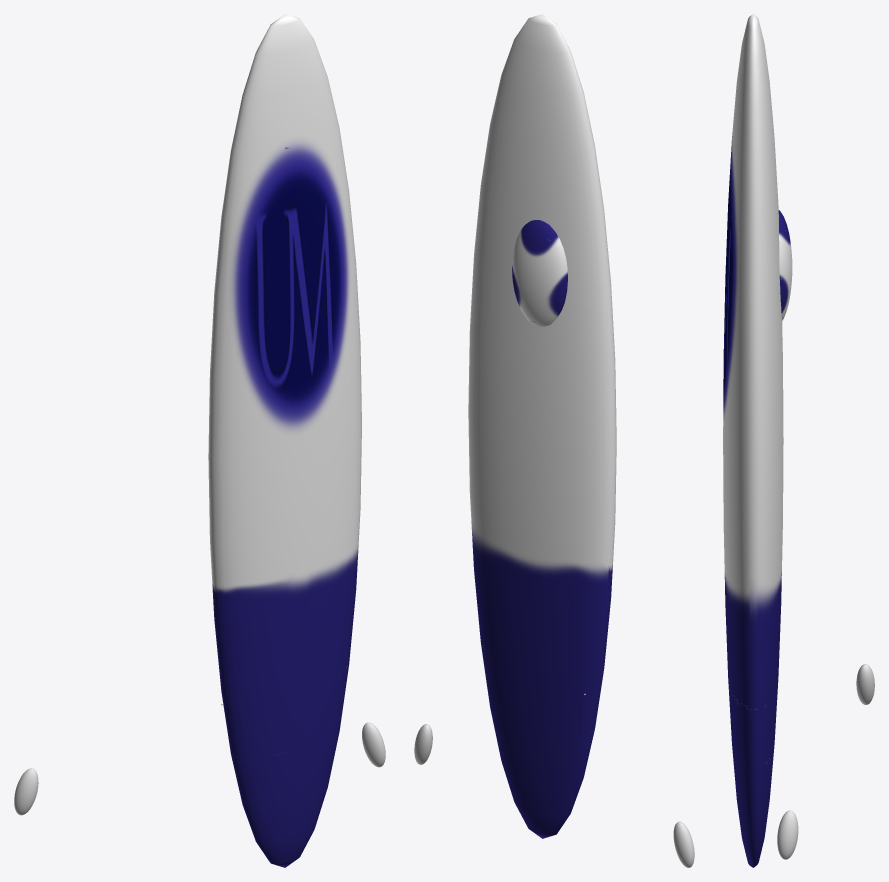
File: Mendobot.glb
The picture shows the model from 3 angles, left to right: view 1: azimuth 30°, elevation 25°; view 2: azimuth 150°, elevation 25°; view 3: azimuth 270°, elevation 25°; orthographic projection. The views are drawn at different scales.
Parts seen in each view (by area): view 1: Cuerpo, Mano derecha, Mano izquierda; view 2: Cuerpo, Cabeza, Mano derecha, Mano izquierda; view 3: Cuerpo, Cabeza, Mano izquierda, Mano derecha.
Boxes of the visible parts, x1=… form: Cuerpo: x1=208, y1=14, x2=361, y2=867; Mano derecha: x1=14, y1=768, x2=38, y2=815; Mano izquierda: x1=362, y1=722, x2=385, y2=767; Cuerpo: x1=468, y1=14, x2=616, y2=838; Cabeza: x1=512, y1=220, x2=567, y2=326; Mano derecha: x1=673, y1=821, x2=694, y2=867; Mano izquierda: x1=414, y1=724, x2=432, y2=764; Cuerpo: x1=723, y1=14, x2=783, y2=867; Cabeza: x1=778, y1=210, x2=792, y2=320; Mano izquierda: x1=777, y1=810, x2=798, y2=859; Mano derecha: x1=856, y1=664, x2=874, y2=704.
Size of the model in its own units: 4.36 by 10.84 by 1.75.
5 materials, 5 textured.
